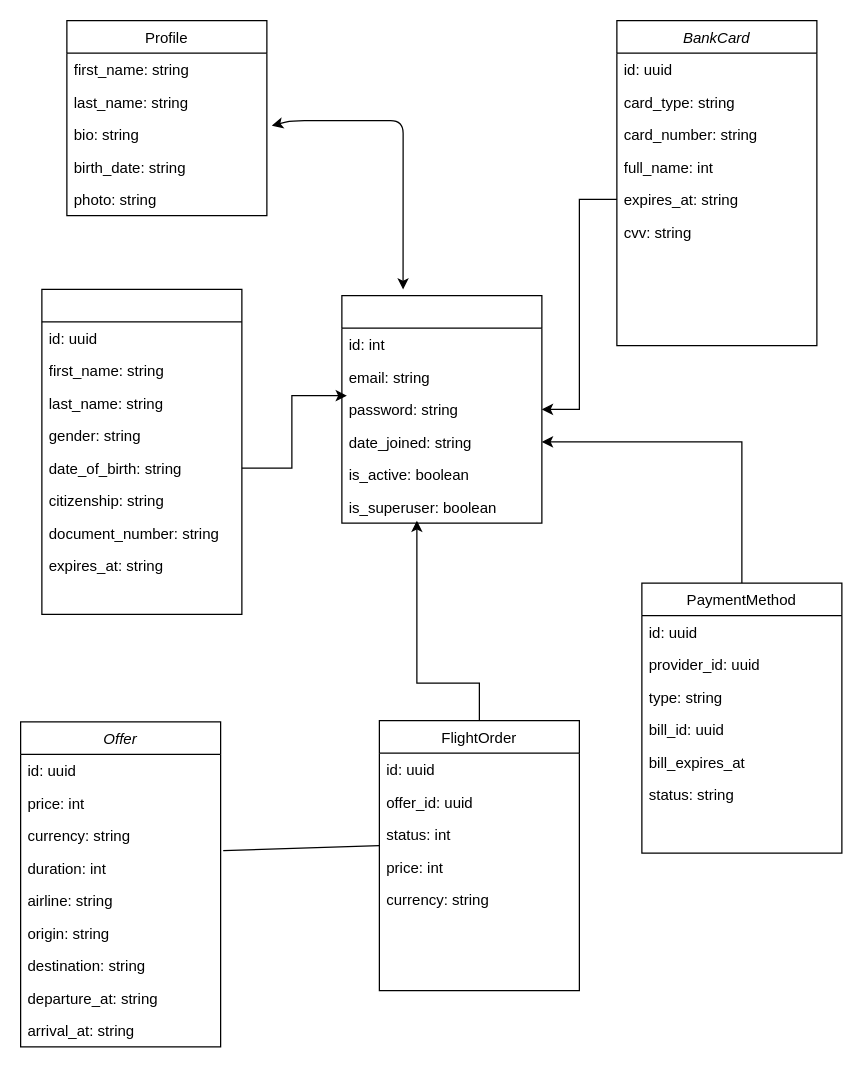
Some shapes in this 863 by 1068 pixel diagram are drawn without their labels. Here are the shapes that lost their labels. From the top down, the box of each, then its label:
(341, 294, 542, 523): MainUser
(41, 288, 242, 614): Passenger
